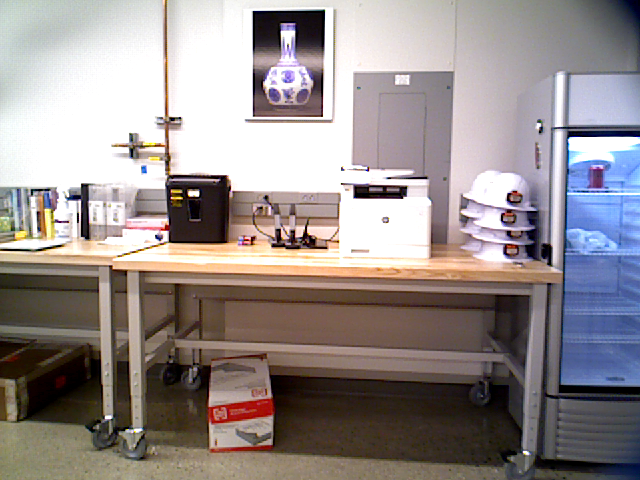painting2: (250, 9, 327, 117)
